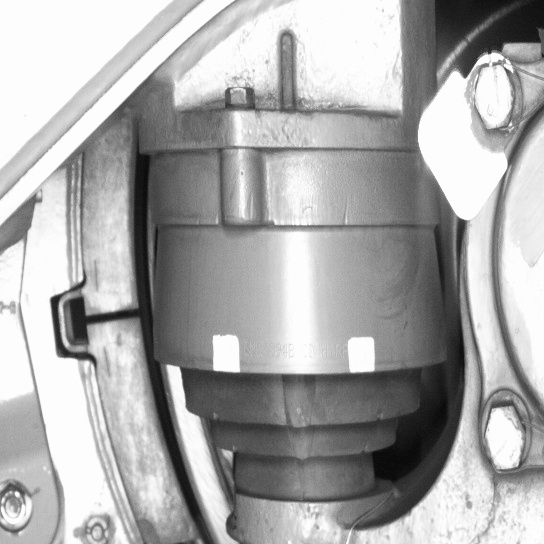KnifeSwitch: (86, 147, 220, 541)
